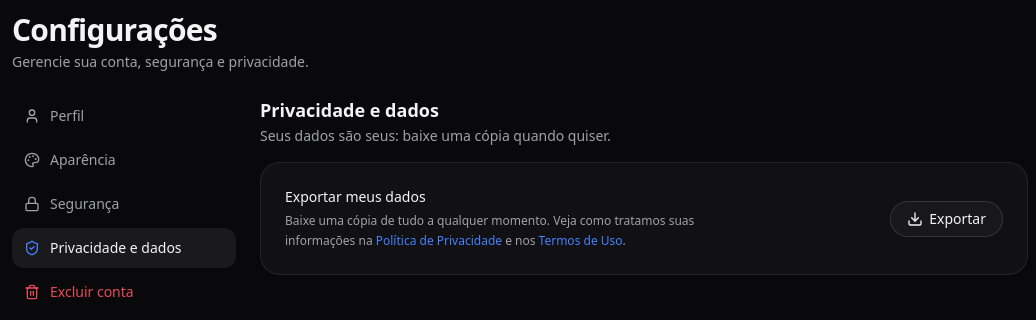
Test: Settings › mapeia 429 na exportação para uma mensagem específica em vez do fallback genérico
Click the button "Exportar" at (947, 218), box [890, 200, 1003, 236]
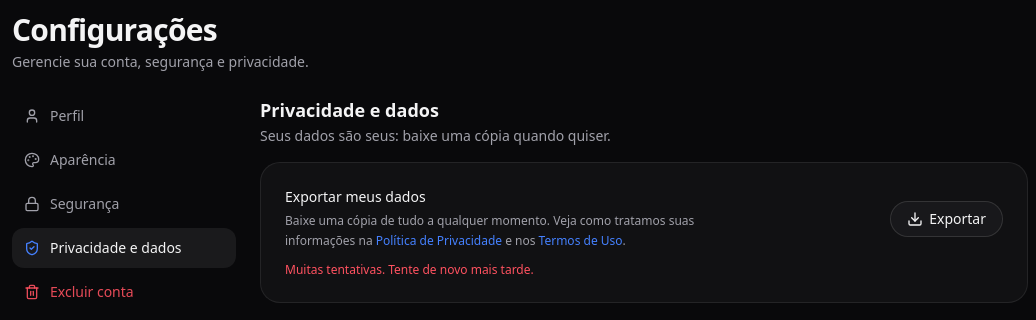
Check: the text "Muitas tentativas. Tente de novo mais tarde." is shown, box [285, 261, 534, 278]
